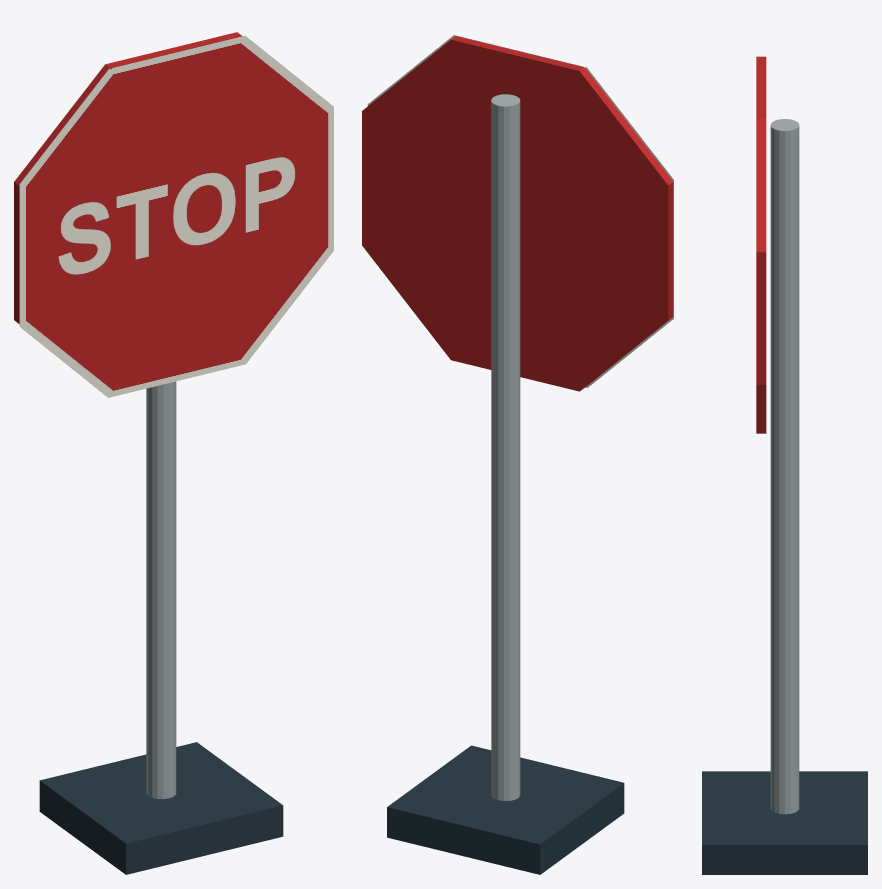
The model's file is scendance-plan-stop.glb.
3 views of the same model, side by side, from view 1: azimuth 30°, elevation 25°; view 2: azimuth 150°, elevation 25°; view 3: azimuth 270°, elevation 25° (orthographic). The views are drawn at different scales.
Size of the model in its own units: 0.84 by 2 by 0.4.
Materials: 4 (1 with a texture image).
